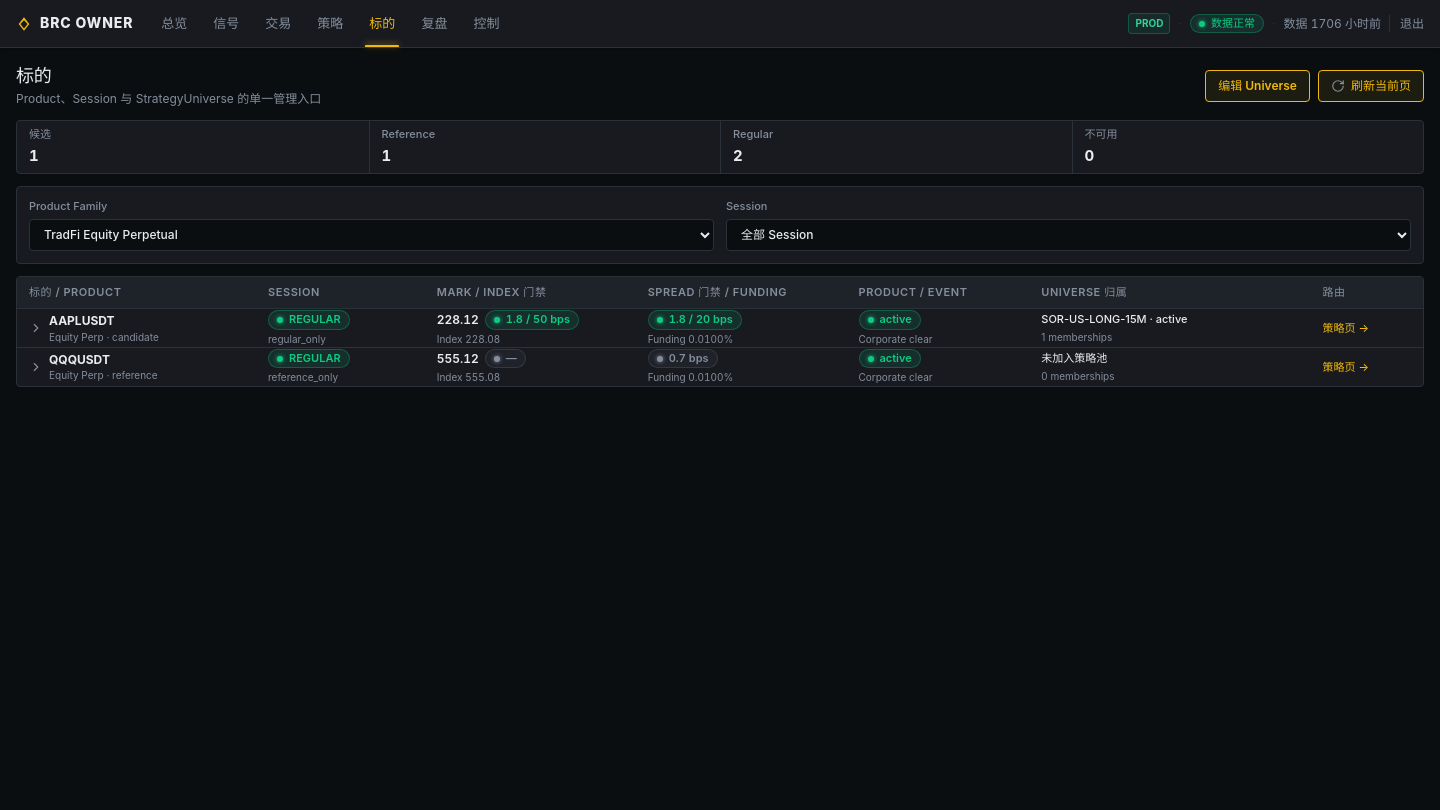
Test case: shows product facts and opens the Universe editor without allowing references
Expected: the text "AAPLUSDT" is shown, [49,313,115,328]
Expected: the text "1.8 / 20 bps" is shown, [648,310,742,330]
Click the button "编辑 Universe" at (1258, 86), box [1205,70,1310,102]
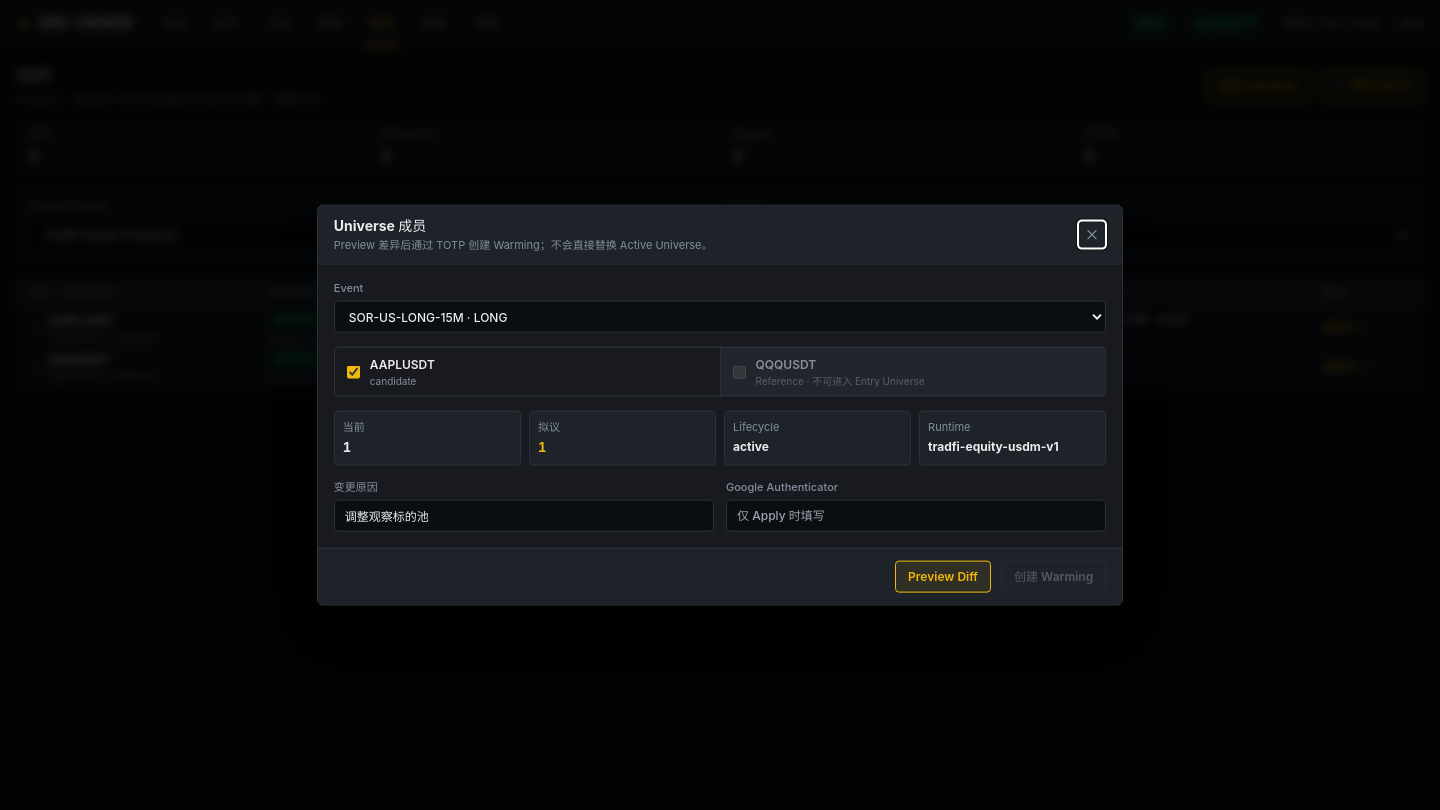
Result: the dialog "Universe 成员" is shown at [317,205,1123,605]
Result: the checkbox labelled "QQQUSDT Reference · 不可进入 Entry Universe" is disabled at [732,365,746,378]
